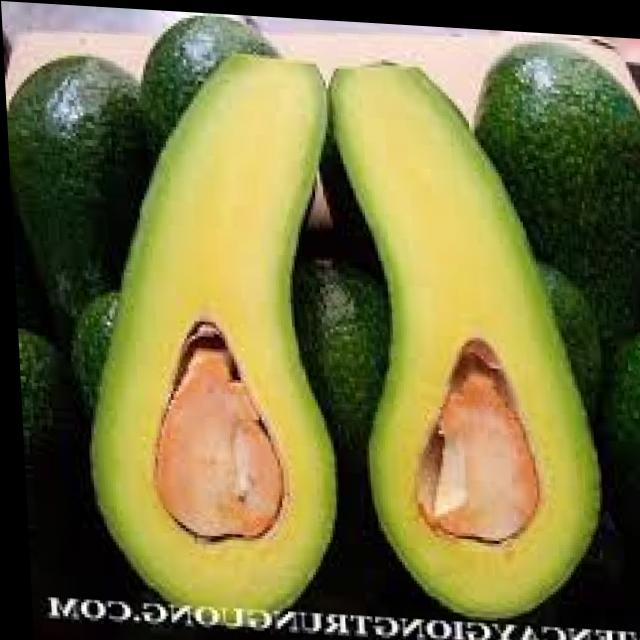Bo: (318, 41, 611, 625), (71, 43, 346, 640)
